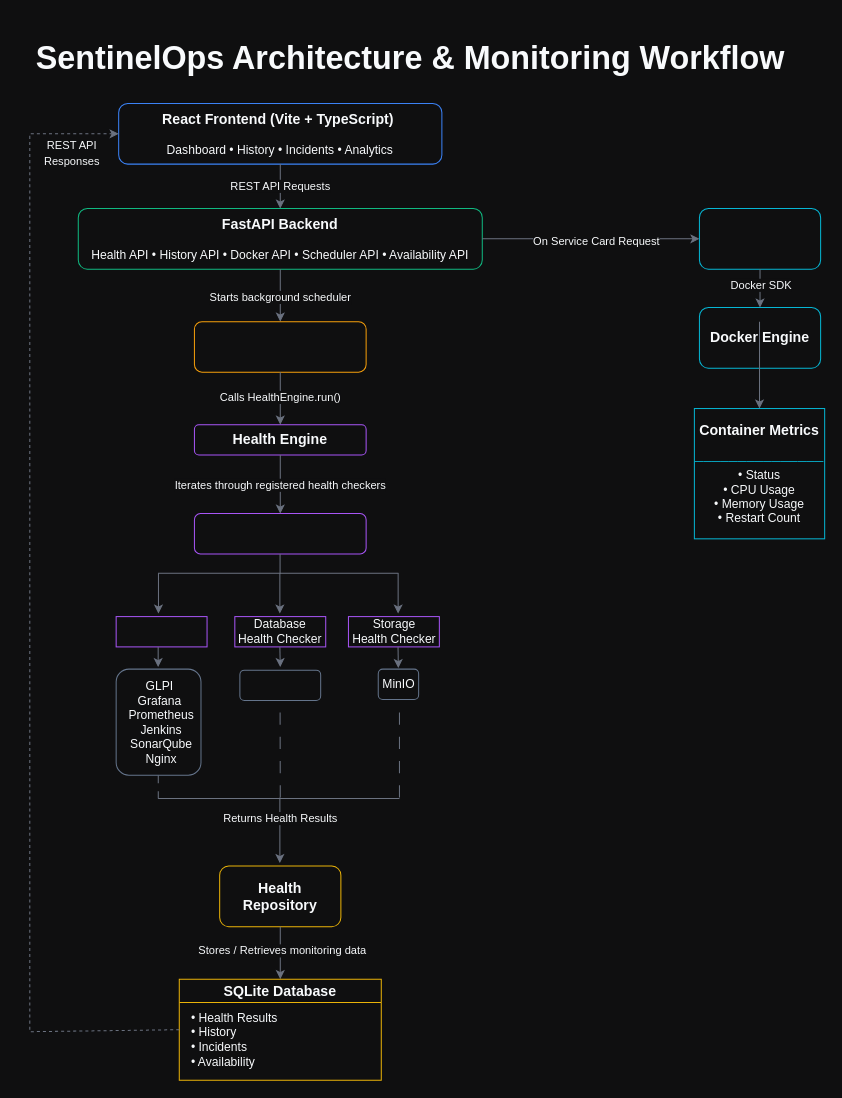
Image size: 842x1098. Some labels were removed from this diagram. The centre of each missing label's shape, as x and y in pixels:
"Docker Service" belongs at point (759, 238).
"Health Checker Regsitry" belongs at point (279, 533).
"PostgreSQL" belongs at point (280, 684).
"Scheduler Every 5 minutes" belongs at point (279, 346).
"Web Service Health Checker" belongs at point (161, 631).
